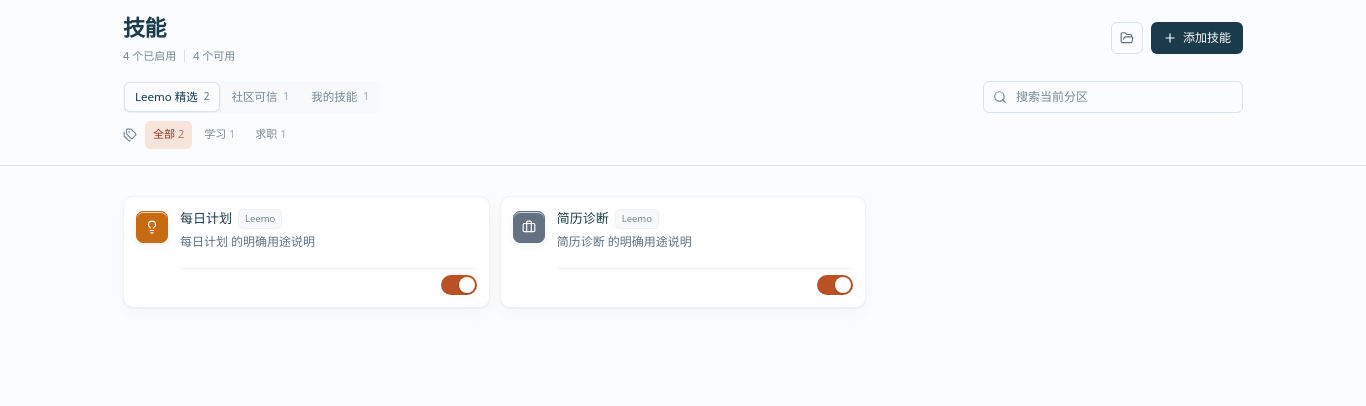
Test: SkillsPage — product-facing sections › uses Leemo 精选 / 社区可信 / 我的技能 as the primary mental model
Expected: the button "每日计划" is shown, x1=180 y1=209 x2=232 y2=228
Expected: the text "grill-me" is not shown
Click the tab "社区可信 1". click: coordinates (260, 96)
box: x1=221 y1=82 x2=299 y2=110
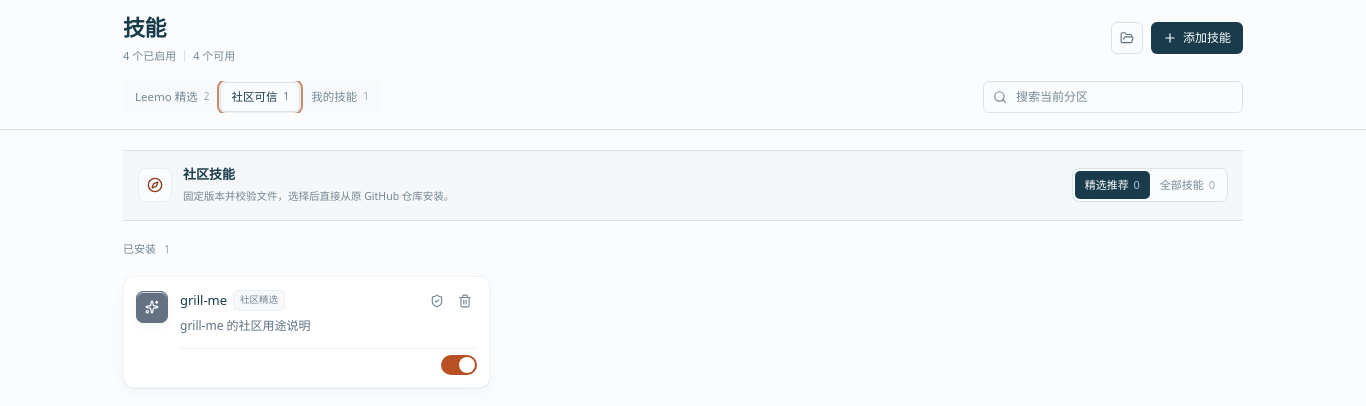
Result: the button "grill-me" is shown at x1=180 y1=291 x2=227 y2=310
Result: the button "每日计划" is gone
Click the tab "我的技能 1". click: coordinates (340, 96)
box: x1=301 y1=82 x2=379 y2=110
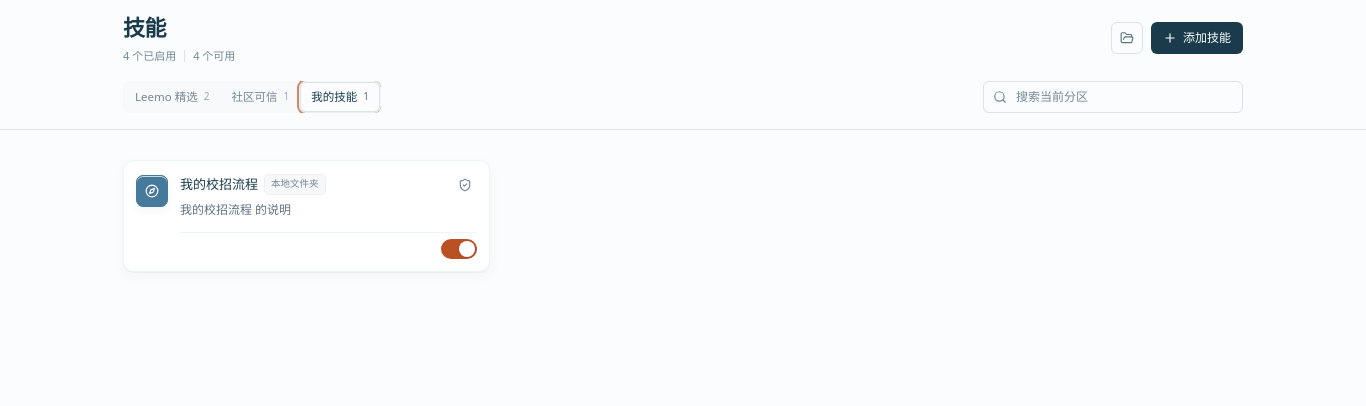
Result: the button "我的校招流程" is shown at x1=180 y1=175 x2=258 y2=194
